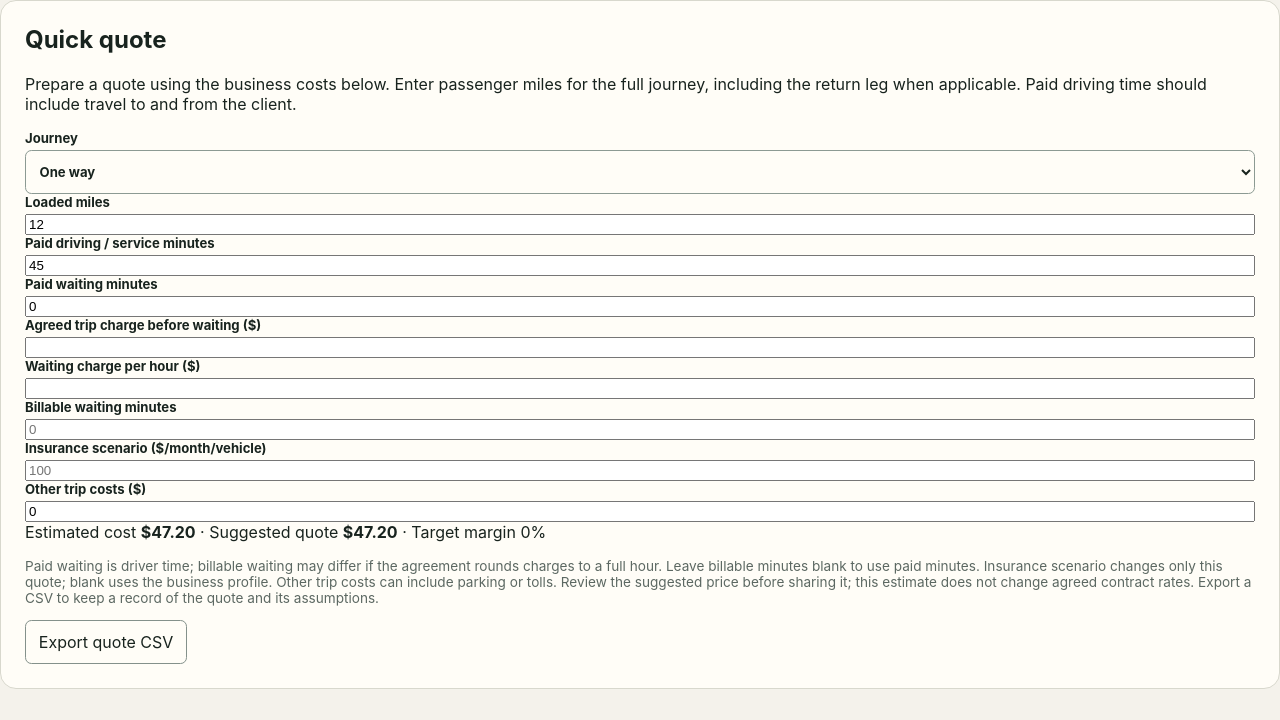
it: recalculates quotes with waiting and reserves two overhead shares for round trips
Replace the text in the number field labelled "Loaded miles" with "0" at {"x": 640, "y": 224}, box [25,214,1255,235]
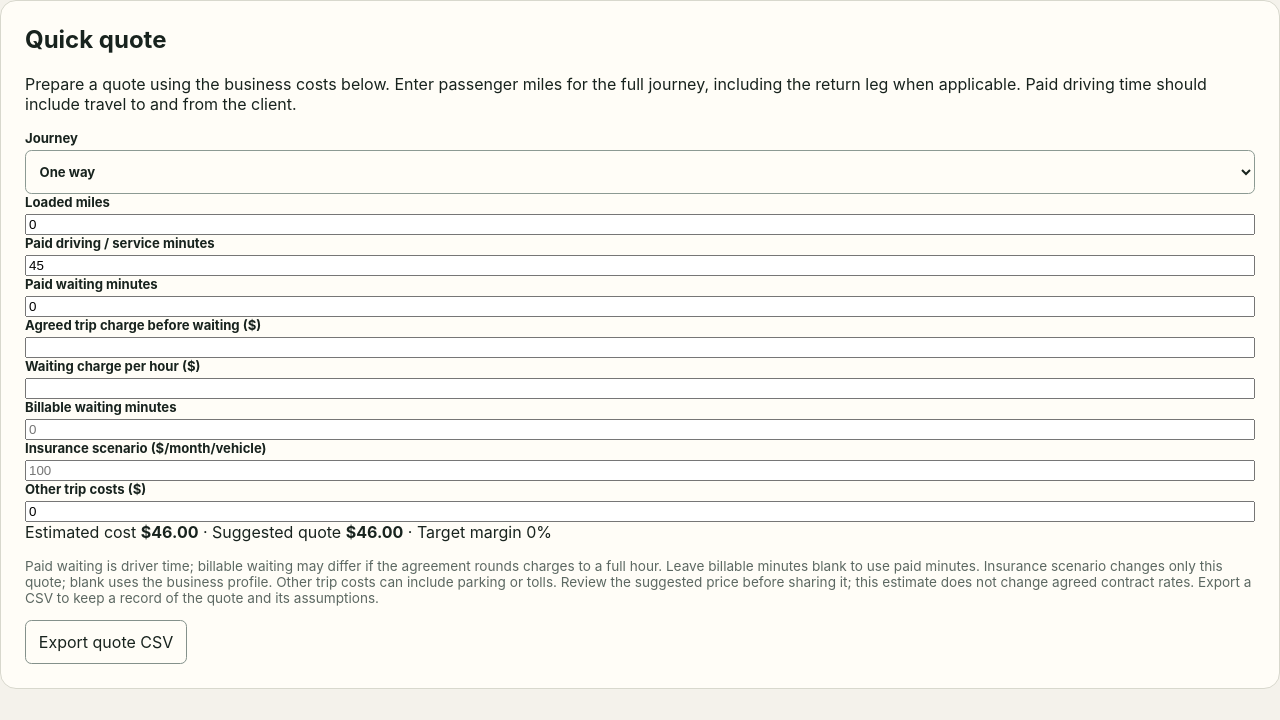
Replace the text in the number field labelled "Paid driving / service minutes" with "0" at {"x": 640, "y": 265}, box [25,255,1255,276]
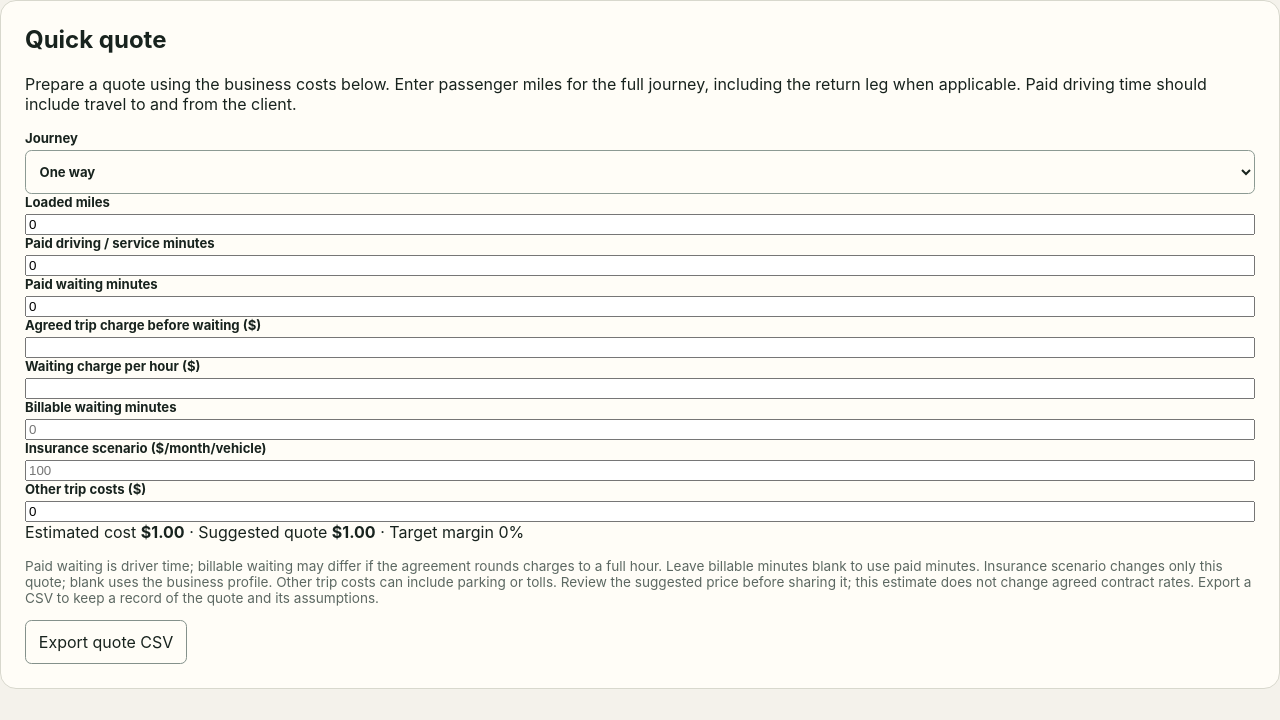
Expected: the text "$1.00" is shown 2 times, [141,522,185,542]; [332,522,376,542]
Select "Round trip (two rides)" in the dropdown labelled "Journey" at {"x": 640, "y": 172}, box [25,150,1255,194]
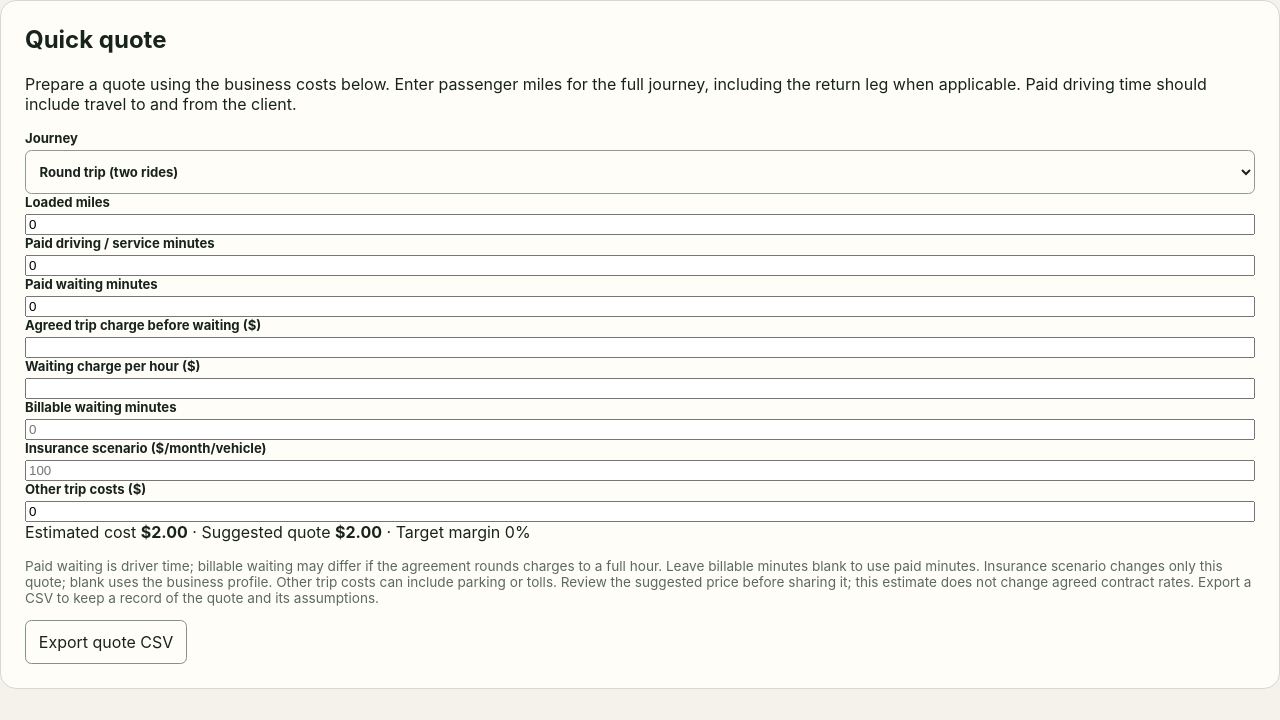
Expected: the text "$2.00" is shown 2 times, [141,522,188,542]; [335,522,382,542]
Replace the text in the number field labelled "Paid waiting minutes" with "30" at {"x": 640, "y": 306}, box [25,296,1255,317]
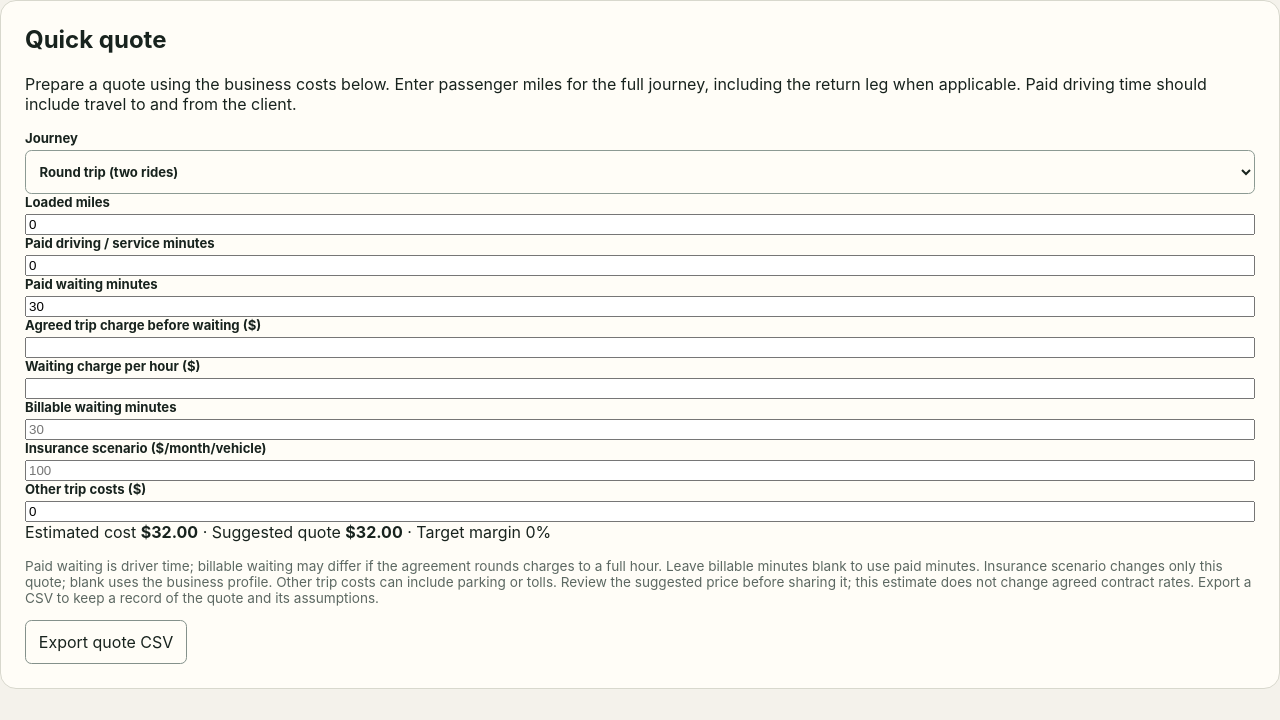
Expected: the text "$32.00" is shown 2 times, [141,522,198,542]; [345,522,403,542]
Type "200" into the number field labelled "Insurance scenario ($/month/vehicle)" at {"x": 640, "y": 470}, box [25,460,1255,481]
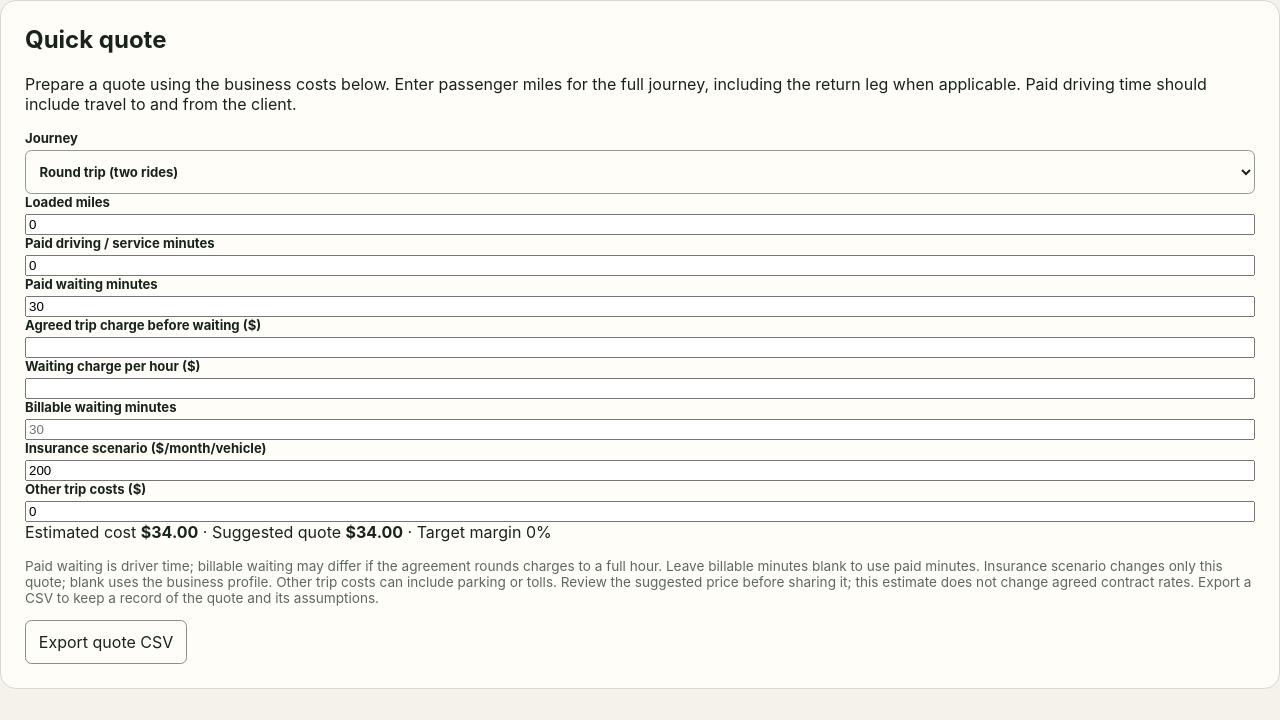
Expected: the text "$34.00" is shown 2 times, [141,522,198,542]; [346,522,403,542]
Replace the text in the number field labelled "Loaded miles" with "-1" at {"x": 640, "y": 224}, box [25,214,1255,235]
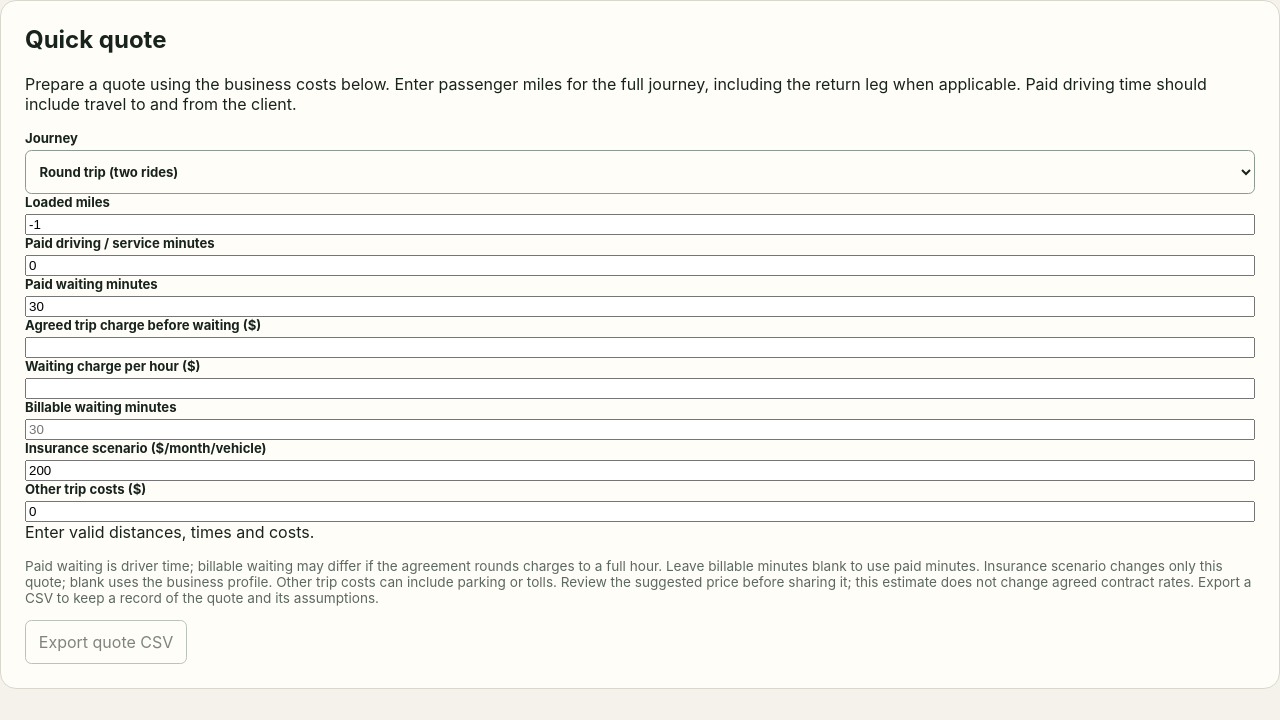
Result: the button "Export quote CSV" is disabled at [25,620,187,664]
